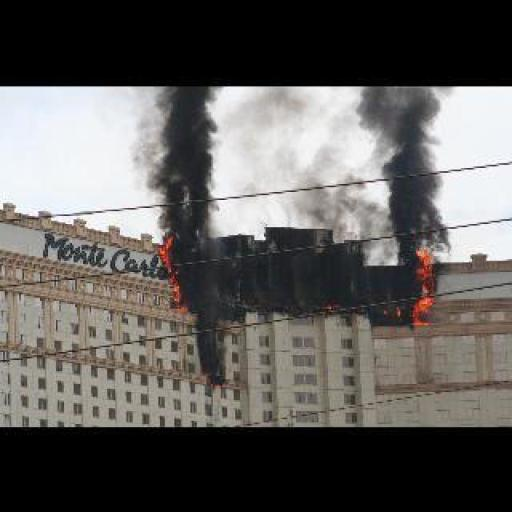smoke: (352, 85, 458, 256), (229, 85, 350, 232), (139, 85, 216, 235), (184, 240, 227, 373), (156, 222, 186, 318), (411, 238, 437, 324)
